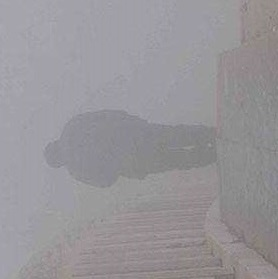person: (41, 107, 219, 188)
